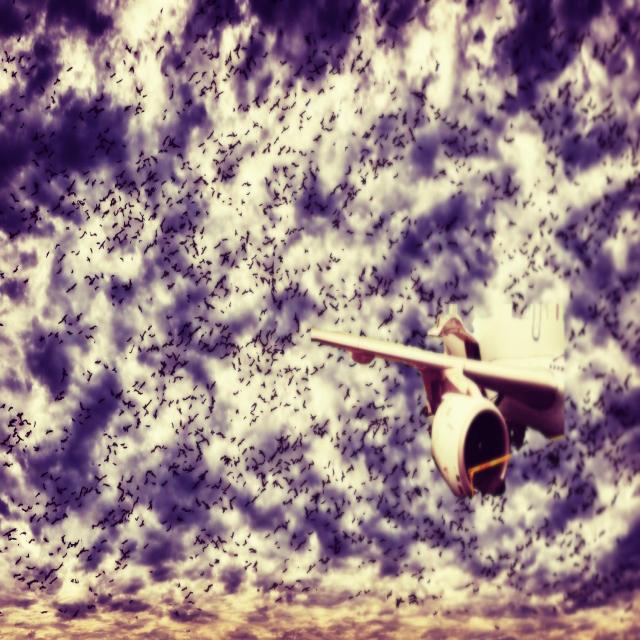airplane: (309, 299, 566, 500)
